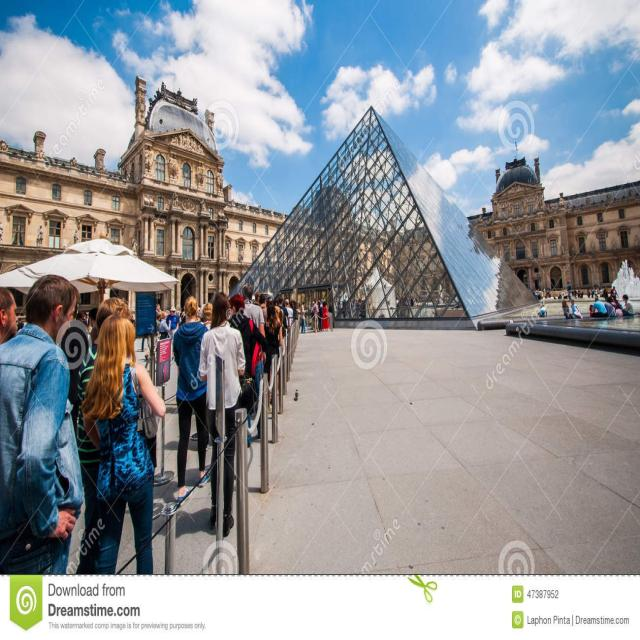body: (0, 272, 85, 576), (82, 312, 166, 576), (74, 294, 135, 576), (198, 291, 246, 537), (172, 295, 213, 507), (228, 292, 268, 448), (242, 282, 268, 441), (0, 283, 27, 344), (264, 302, 283, 382), (329, 297, 365, 320), (568, 284, 609, 302), (528, 286, 565, 300), (277, 296, 289, 338), (165, 305, 179, 338), (395, 290, 417, 309), (590, 296, 608, 318), (159, 311, 172, 341), (201, 300, 213, 332), (284, 298, 294, 335), (604, 296, 617, 324), (169, 132, 190, 148), (167, 152, 179, 180), (138, 333, 155, 352), (620, 294, 634, 317), (430, 296, 452, 310), (258, 292, 268, 322), (279, 307, 288, 339), (561, 298, 574, 320), (195, 160, 205, 188), (77, 306, 91, 326), (570, 298, 583, 319), (300, 300, 308, 334), (311, 299, 319, 331), (189, 139, 204, 156), (144, 144, 153, 172), (322, 300, 329, 331), (215, 166, 224, 190), (316, 298, 322, 331), (131, 233, 139, 257), (155, 302, 161, 334), (536, 304, 548, 318), (0, 219, 6, 246), (609, 285, 619, 301), (196, 304, 206, 320), (564, 279, 571, 301), (37, 225, 44, 246), (252, 290, 261, 306), (175, 308, 185, 322), (250, 247, 258, 264), (266, 294, 278, 305), (73, 228, 80, 246), (223, 245, 230, 262), (238, 247, 245, 263), (104, 226, 111, 242), (291, 300, 297, 318), (130, 312, 136, 328), (614, 299, 620, 311), (310, 301, 315, 313), (166, 306, 170, 316), (282, 300, 286, 308)
